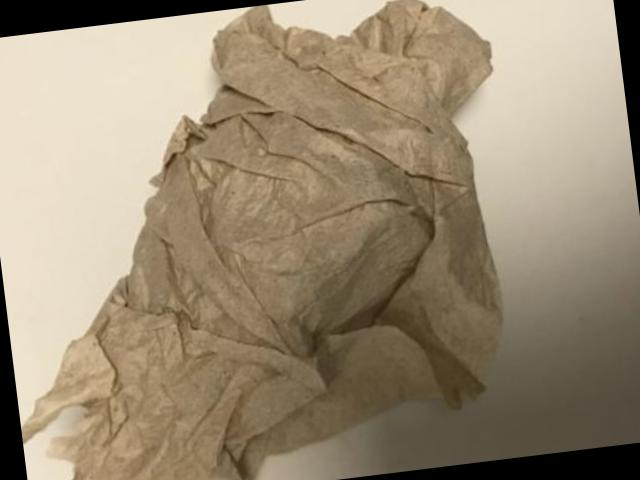cardboard paper: (20, 0, 499, 480)
